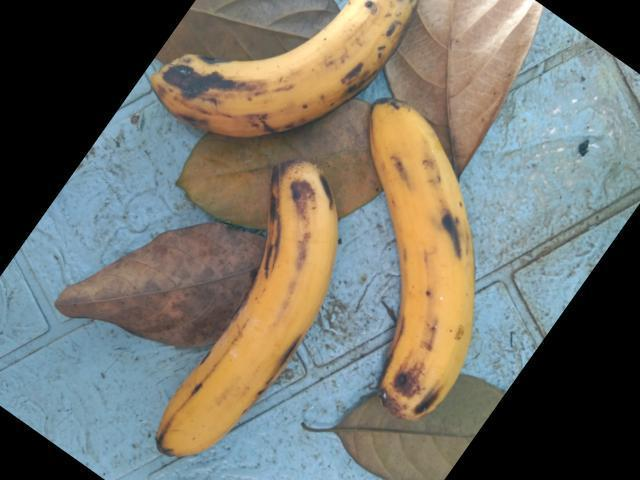overripe: (151, 156, 353, 452), (137, 0, 431, 143)
ripe: (350, 83, 506, 448)
